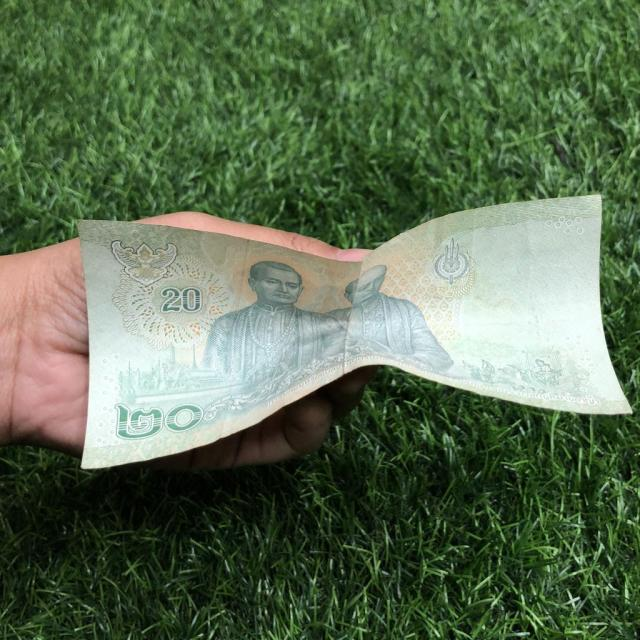THAI20: (77, 194, 632, 472)
